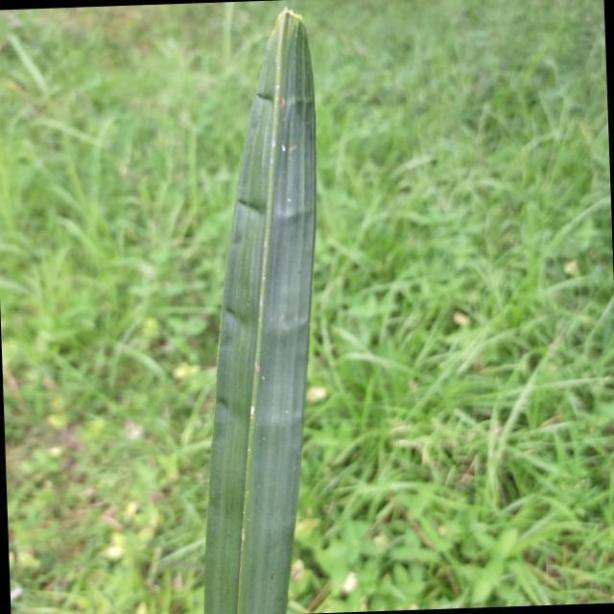Boron: (204, 7, 346, 614)
